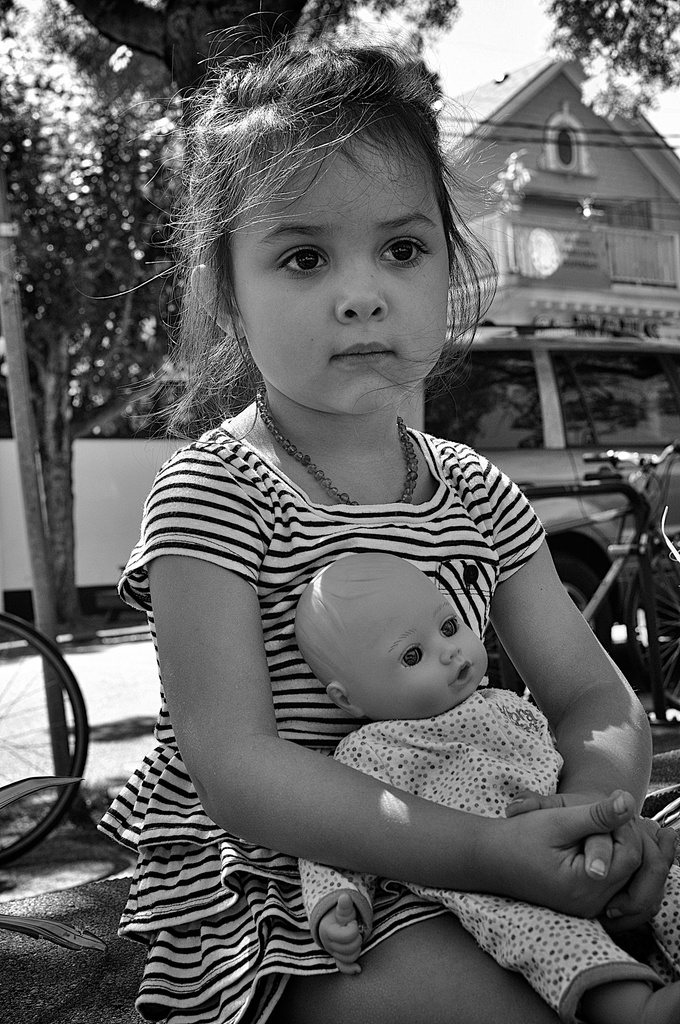Human_hand: (503, 791, 679, 929), (501, 788, 644, 919), (320, 893, 362, 973)
